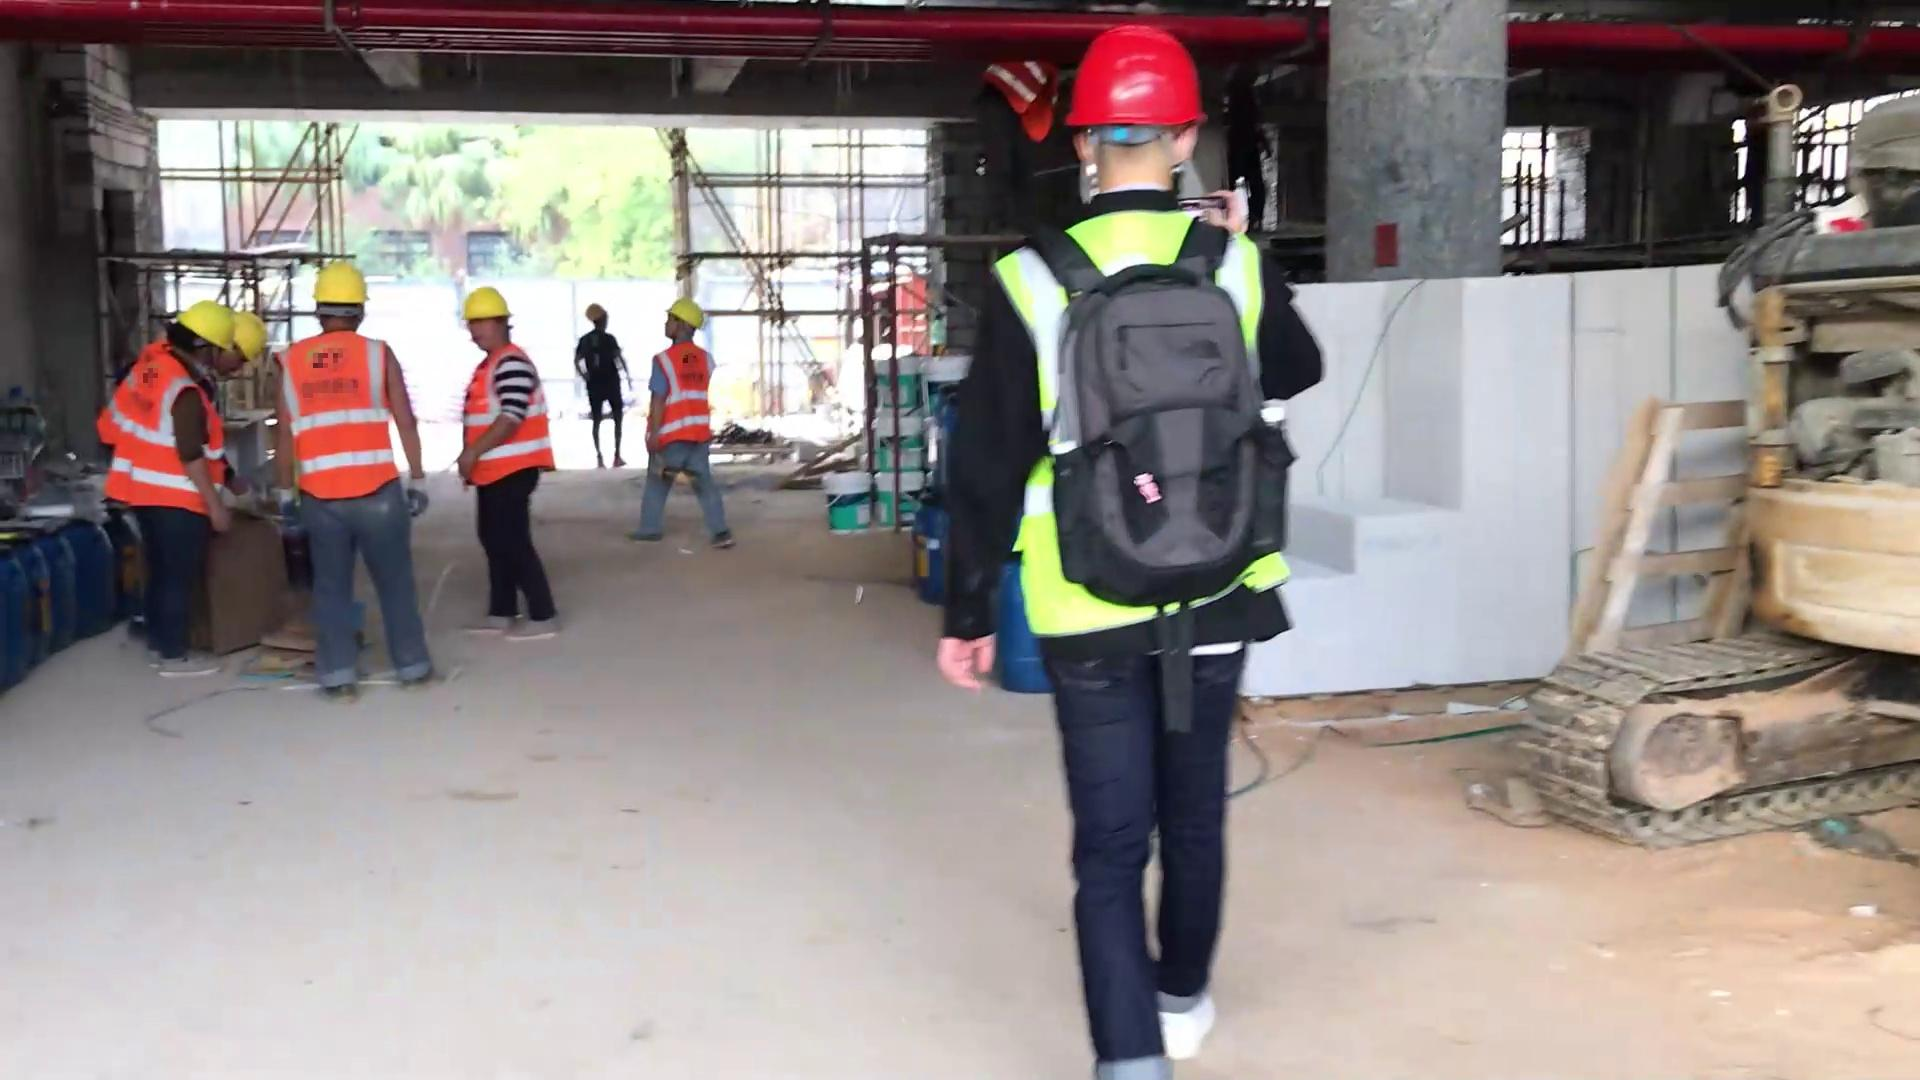helmet: (1049, 9, 1218, 142), (177, 293, 237, 354), (308, 261, 382, 309), (452, 278, 517, 324), (229, 305, 273, 368), (659, 295, 714, 339)
person: (933, 9, 1337, 1080), (266, 249, 466, 704), (440, 280, 599, 645), (130, 283, 234, 695), (623, 298, 732, 556), (562, 283, 632, 483)
vest: (984, 209, 1291, 644), (269, 326, 410, 501), (122, 339, 226, 522), (458, 348, 559, 494), (652, 349, 728, 469)
